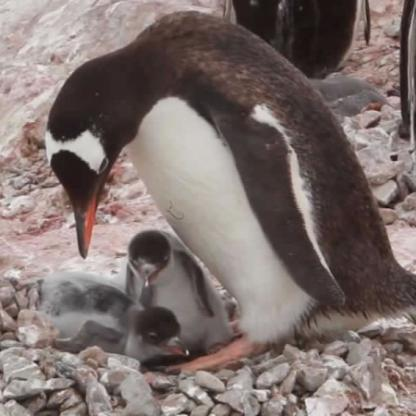Penguin: (39, 0, 415, 364), (108, 218, 249, 371), (29, 259, 200, 383)
